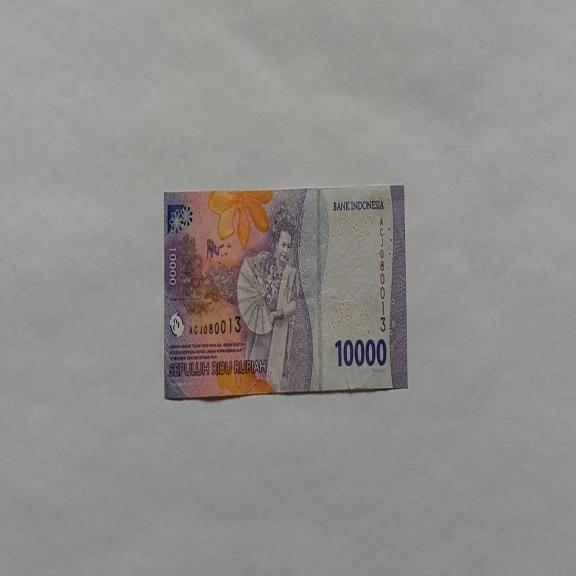Kertas: (162, 184, 408, 400), (334, 335, 387, 368)
